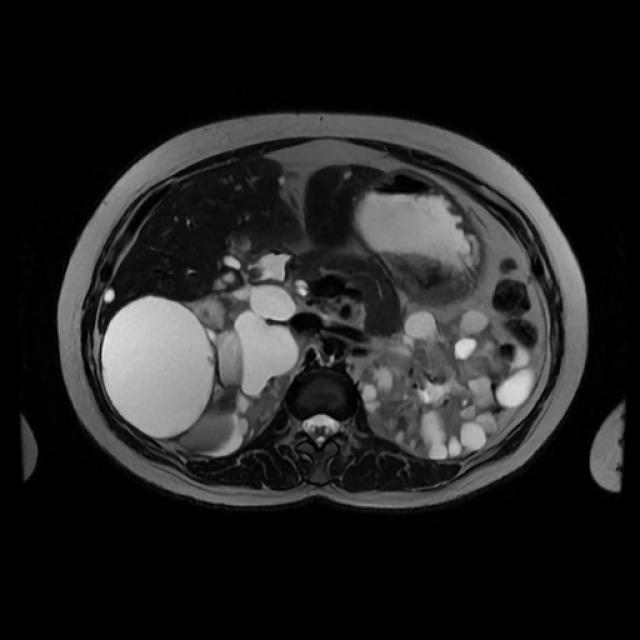sag: (101, 281, 311, 459)
sol: (353, 297, 539, 459)
